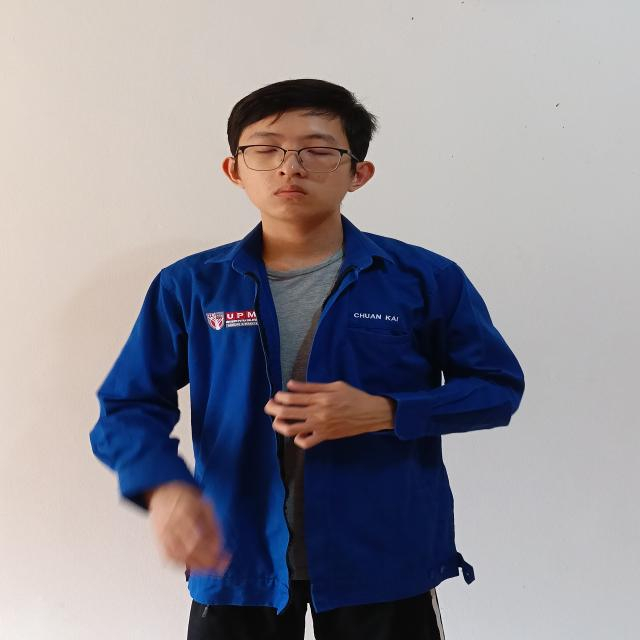person_with_labcoat: (91, 80, 524, 640)
